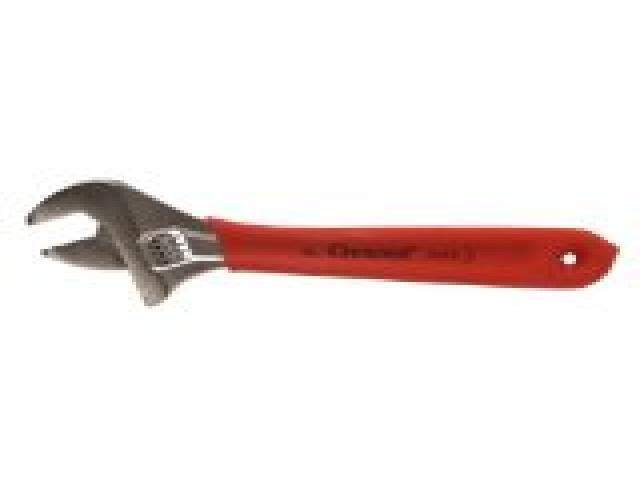Adjustable spanner: (28, 181, 618, 305)
